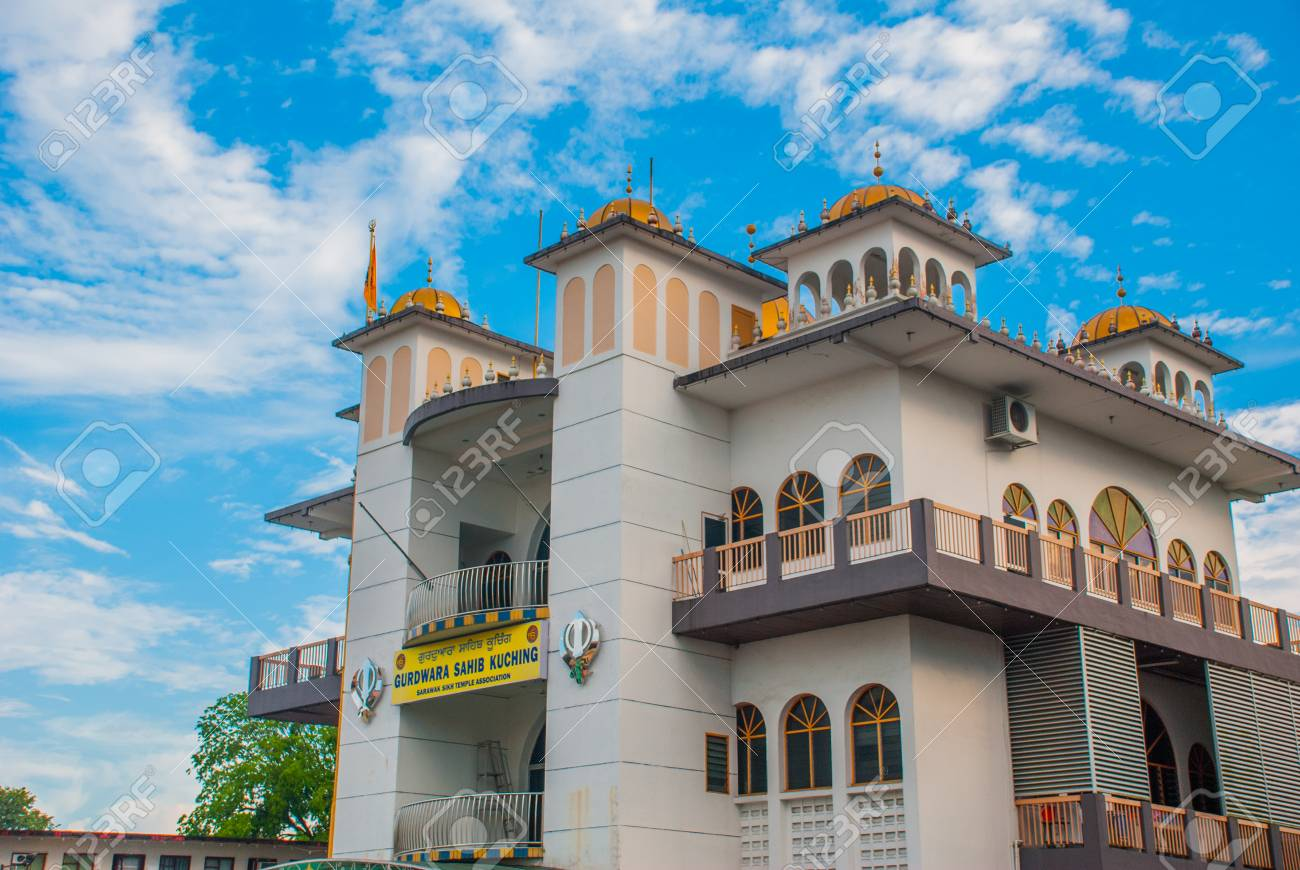Gurdwara: (249, 156, 1296, 870)
